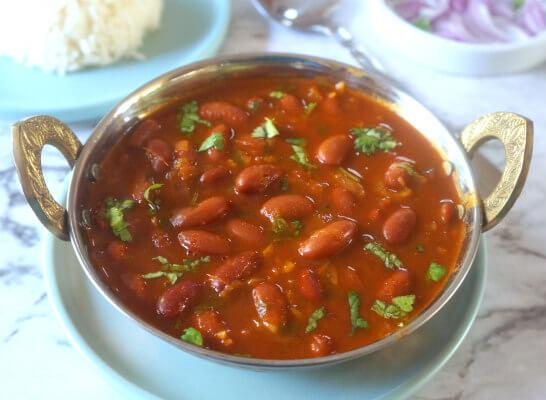rajma: (109, 89, 450, 341)
